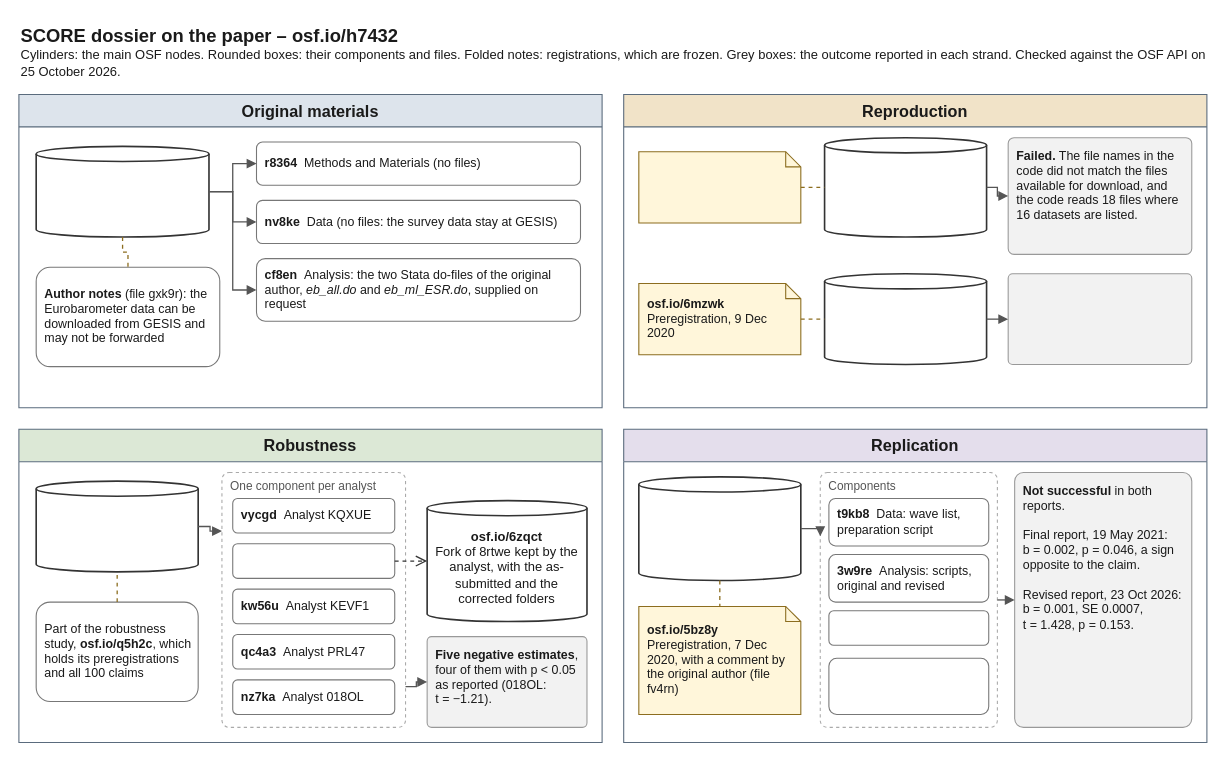
The diagram is 1226 pixels wide and 761 high, and some of its shapes have lost their labels. The shapes that lost their labels are listed below. From the top down, each one's centre as x and y in pixels, then its label:
(122,191): osf.io/whp4b Original materials, collected by COS
(719,187): osf.io/gfah6 Open-ended registration, 10 Sep 2020
(905,186): osf.io/ezhcs Push-button reproduction with the author code (cf8en)
(905,318): osf.io/4rjbf Source-data reproduction
(1099,318): Not reproduced. Final report, 20 May 2021: b = 0.002, p = 0.559.
(117,526): osf.io/gr8u6 Reanalyses of the claim
(719,528): osf.io/zt5y2 Secondary-data replication on 14 later waves
(313,560): 8rtwe Analyst C6HJR
(908,627): tnyjc Audit
(908,685): 8fwrt Power analysis (a sibling component under h7432)
